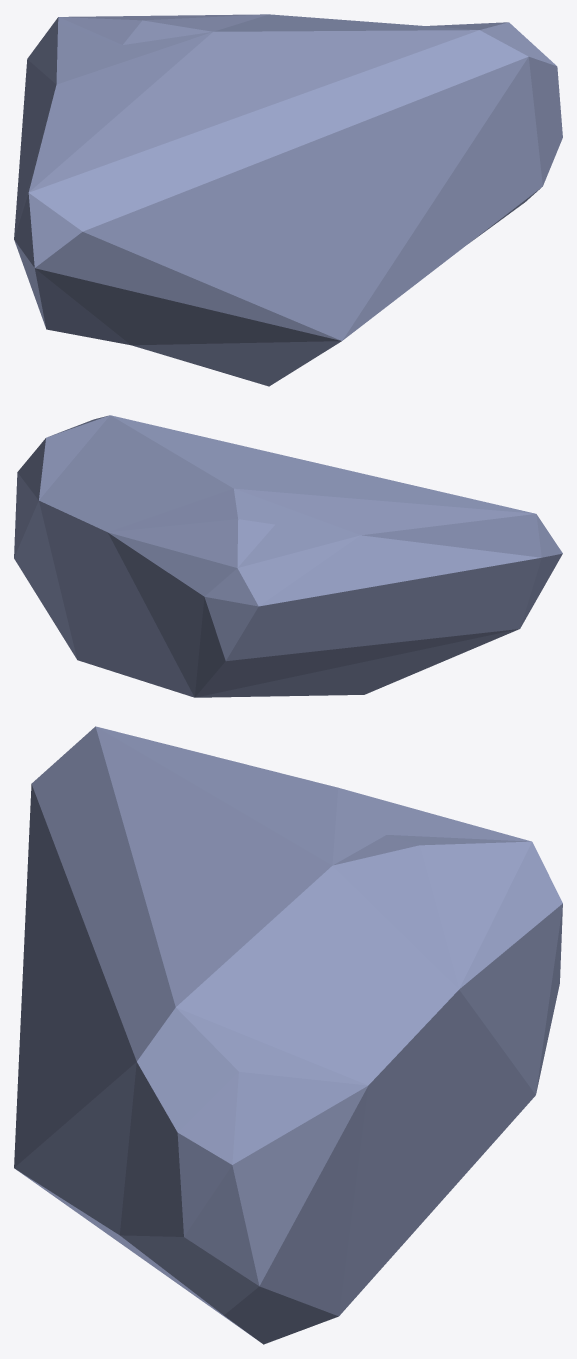
The model's file is Stone_5.fbx.
The picture shows the model from 3 angles, top to bottom: view 1: azimuth 30°, elevation 25°; view 2: azimuth 150°, elevation 25°; view 3: azimuth 270°, elevation 25°; orthographic projection. The views are drawn at different scales.
Parts seen in each view (by area): view 1: Stone_5; view 2: Stone_5; view 3: Stone_5.
Part boxes in pixels (left/top/right/bottom): Stone_5: left=14, top=14, right=562, bottom=386; Stone_5: left=14, top=415, right=562, bottom=697; Stone_5: left=14, top=726, right=562, bottom=1344.
Bounding box in the file's own units: 1.26 × 0.5563 × 0.77.
